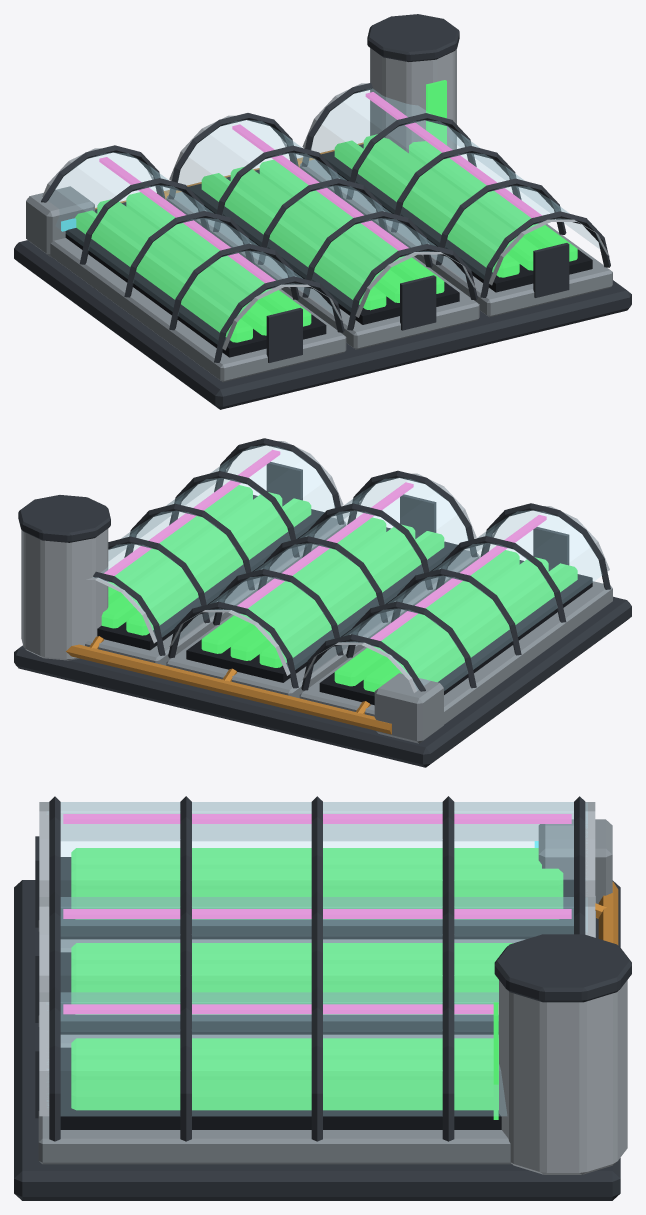
File: exo-hydroponics.glb
3 views of the same model, one above another, from view 1: azimuth 30°, elevation 25°; view 2: azimuth 150°, elevation 25°; view 3: azimuth 270°, elevation 25° (orthographic). The views are drawn at different scales.
Visible parts, largest first — view 1: body; view 2: body; view 3: body.
Part boxes in pixels (x1,y1,x2,y2): body: [14, 14, 631, 409]; body: [14, 438, 631, 767]; body: [14, 796, 631, 1200].
Bounding box in the file's own units: 8.71 × 2.95 × 7.54.
